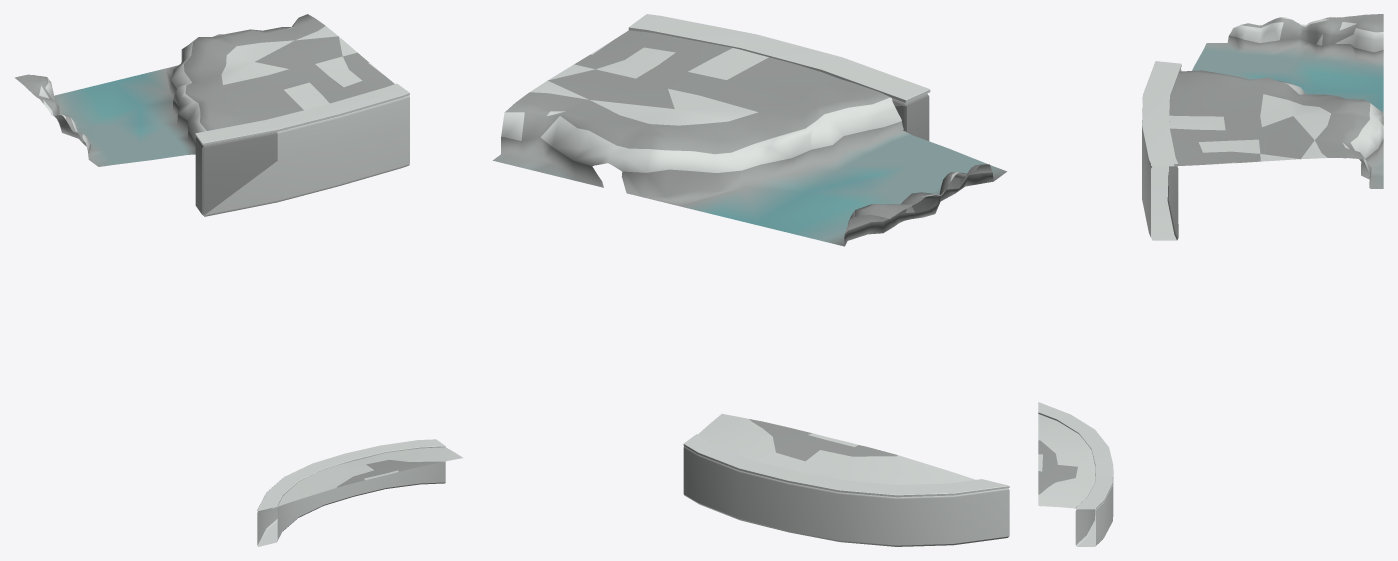
The picture shows the model from 3 angles, left to right: view 1: azimuth 30°, elevation 25°; view 2: azimuth 150°, elevation 25°; view 3: azimuth 270°, elevation 25°; orthographic projection. The views are drawn at different scales.
Parts seen in each view (by area): view 1: G:\FFXIV-MapTools\exports\n5f1\bg\ex4\01_nvt_n5\fld\n5f1\bgp (×17); view 2: G:\FFXIV-MapTools\exports\n5f1\bg\ex4\01_nvt_n5\fld\n5f1\bgp (×16); view 3: G:\FFXIV-MapTools\exports\n5f1\bg\ex4\01_nvt_n5\fld\n5f1\bgp (×17).
Part boxes in pixels (bbox=[...]): G:\FFXIV-MapTools\exports\n5f1\bg\ex4\01_nvt_n5\fld\n5f1\bgp (×17): bbox=[14, 14, 462, 546]; G:\FFXIV-MapTools\exports\n5f1\bg\ex4\01_nvt_n5\fld\n5f1\bgp (×16): bbox=[493, 14, 1009, 546]; G:\FFXIV-MapTools\exports\n5f1\bg\ex4\01_nvt_n5\fld\n5f1\bgp (×17): bbox=[1038, 14, 1383, 546].
Bounding box in the file's own units: 128 × 160 × 128.
